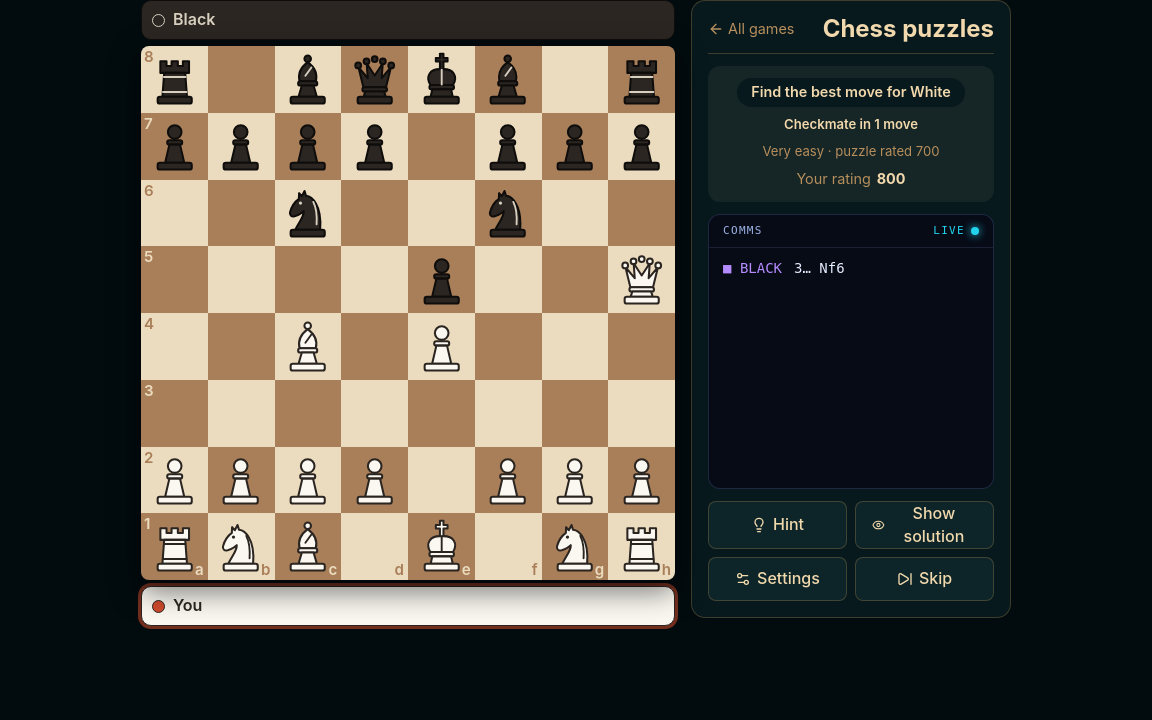
Test: chess puzzles › takes a wrong move back, counts the miss once, and hints in two steps
Expected: the message shows "Find the best move", top-left (751, 83), bottom-right (951, 100)
// Bxf7+ is check, not mate.
Click the button named "c4, White bishop". click: x=308, y=346
box: top-left (274, 313), bottom-right (341, 380)
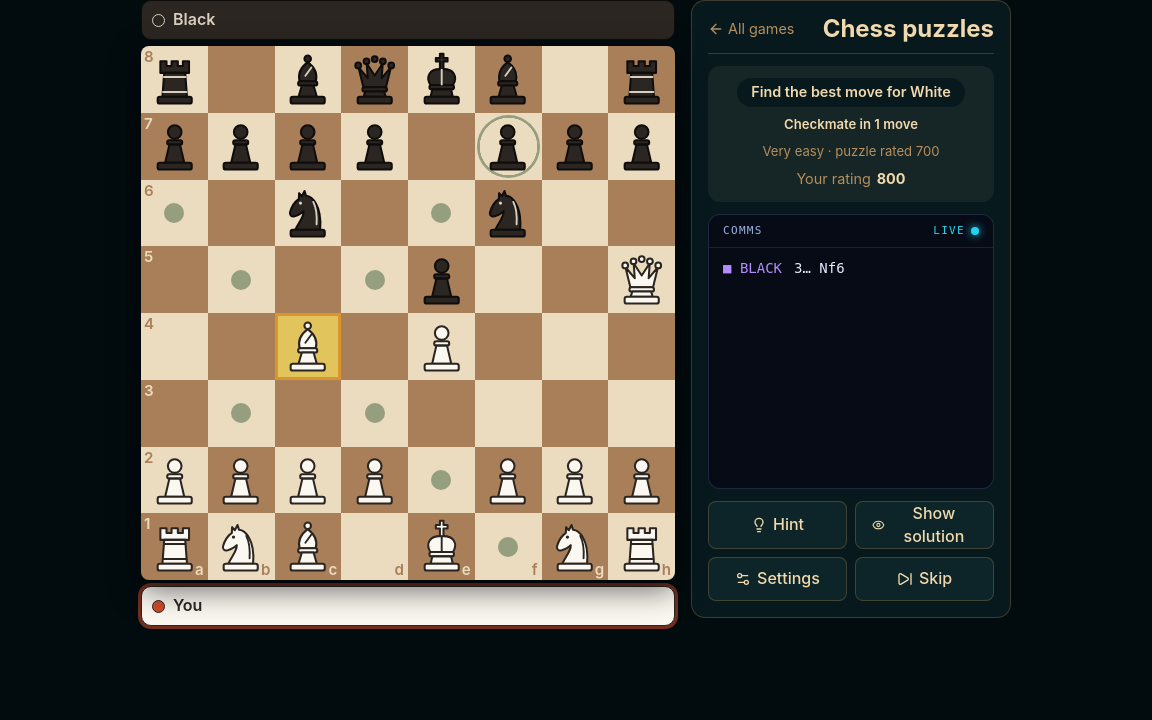
Click the button named "f7, Black pawn". click: x=508, y=146
box: top-left (475, 113), bottom-right (542, 180)
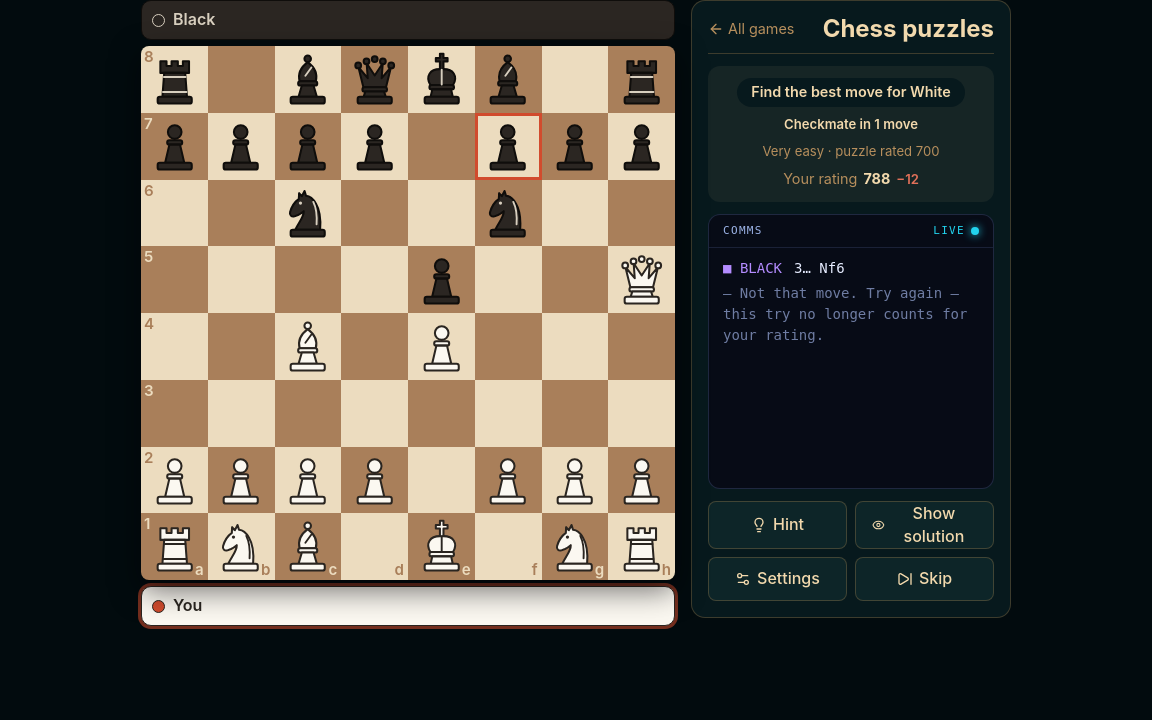
Now the text "Not that move" is shown, box top-left (723, 285), bottom-right (967, 343)
Click the button "Hint". click: x=778, y=525
box: top-left (708, 501), bottom-right (847, 549)
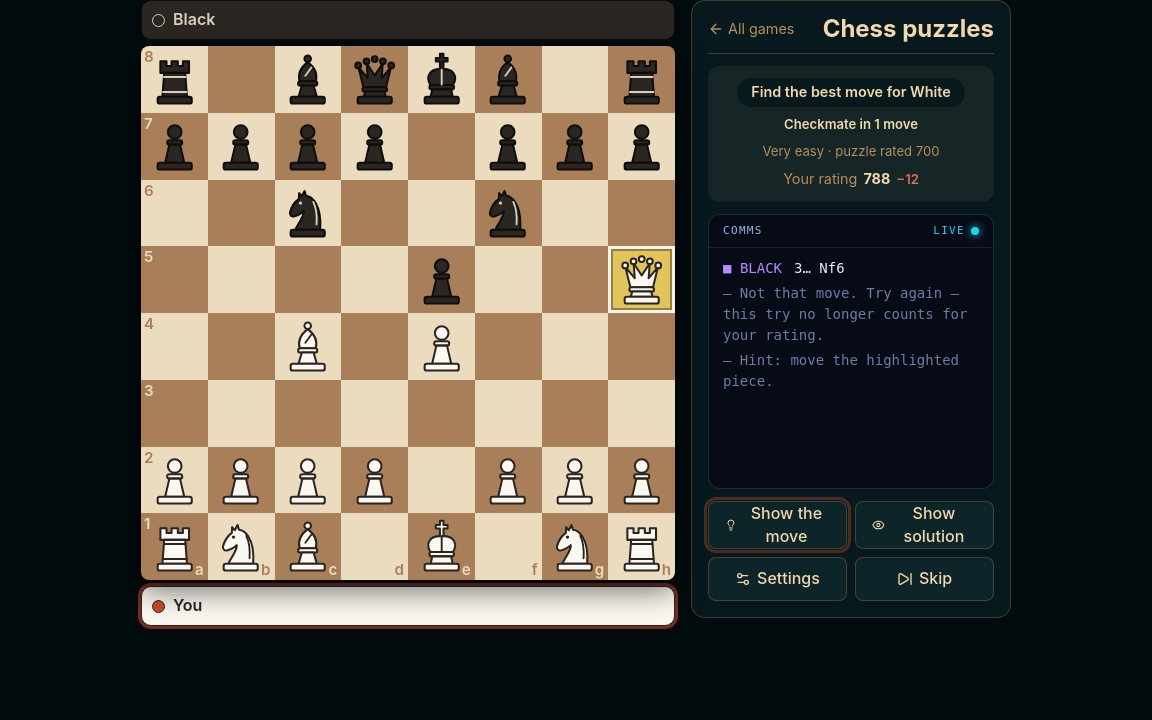
Click the button "Show the move". click: x=778, y=525
box: top-left (708, 501), bottom-right (847, 549)
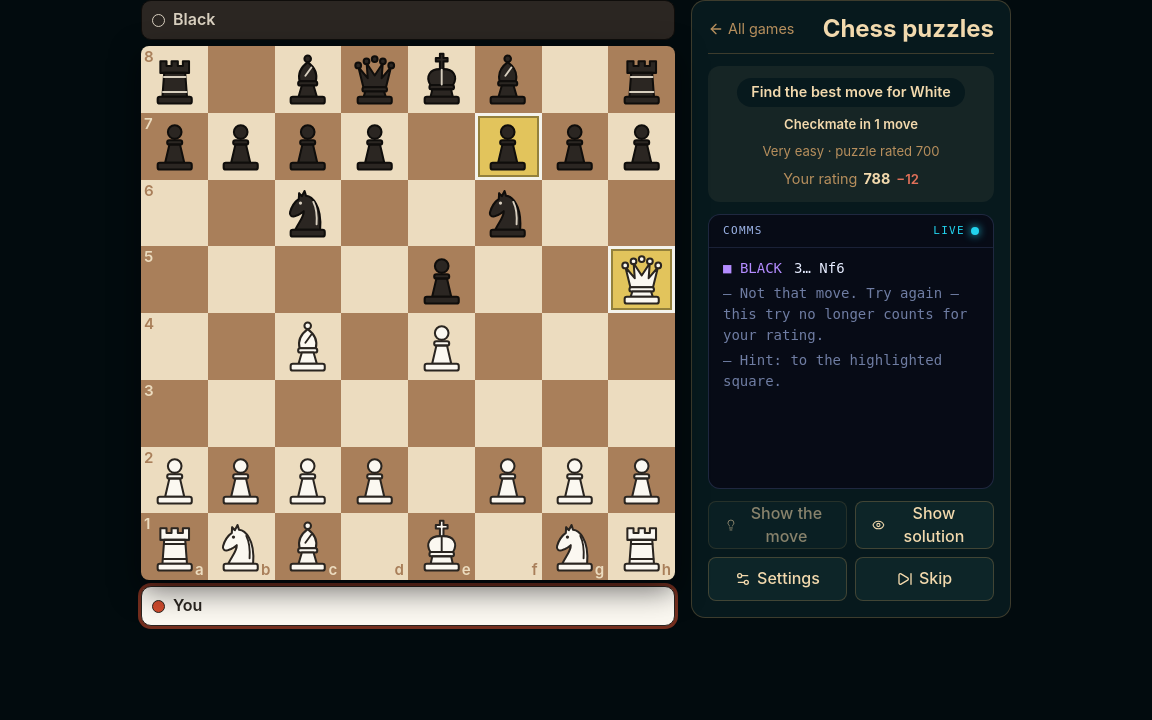
Click the button named "h5, White queen". click: x=642, y=280
box: top-left (608, 246), bottom-right (675, 313)
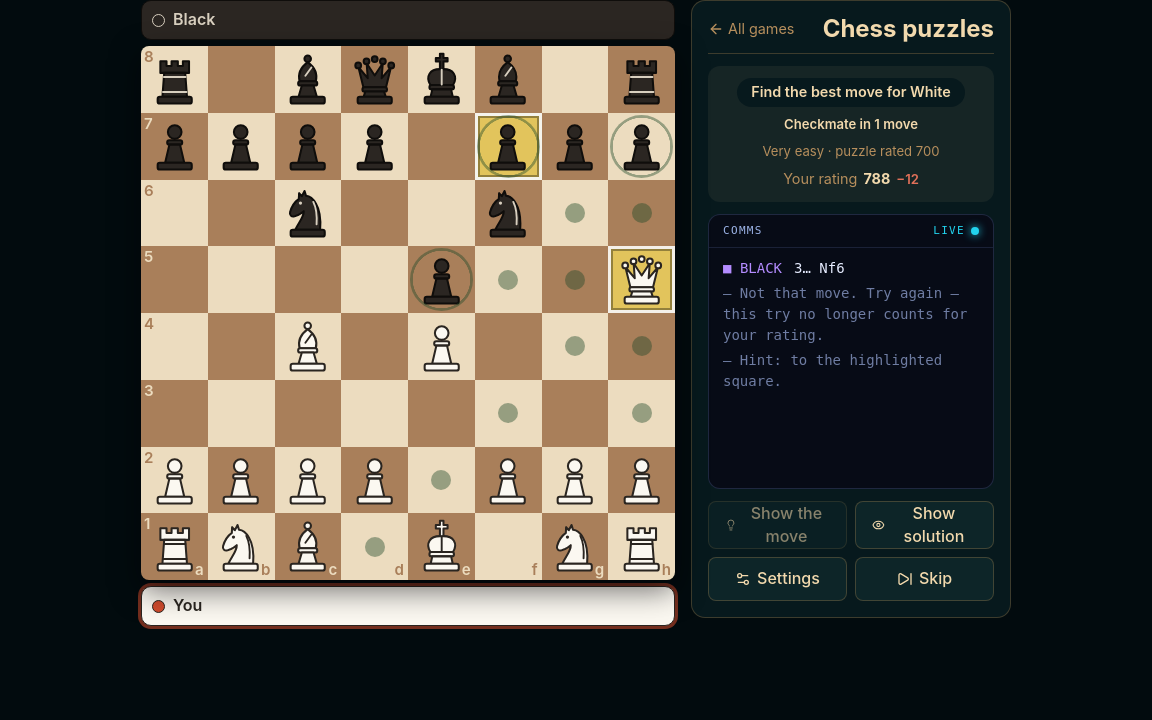
Click the button named "f7, Black pawn". click: x=508, y=146
box: top-left (475, 113), bottom-right (542, 180)
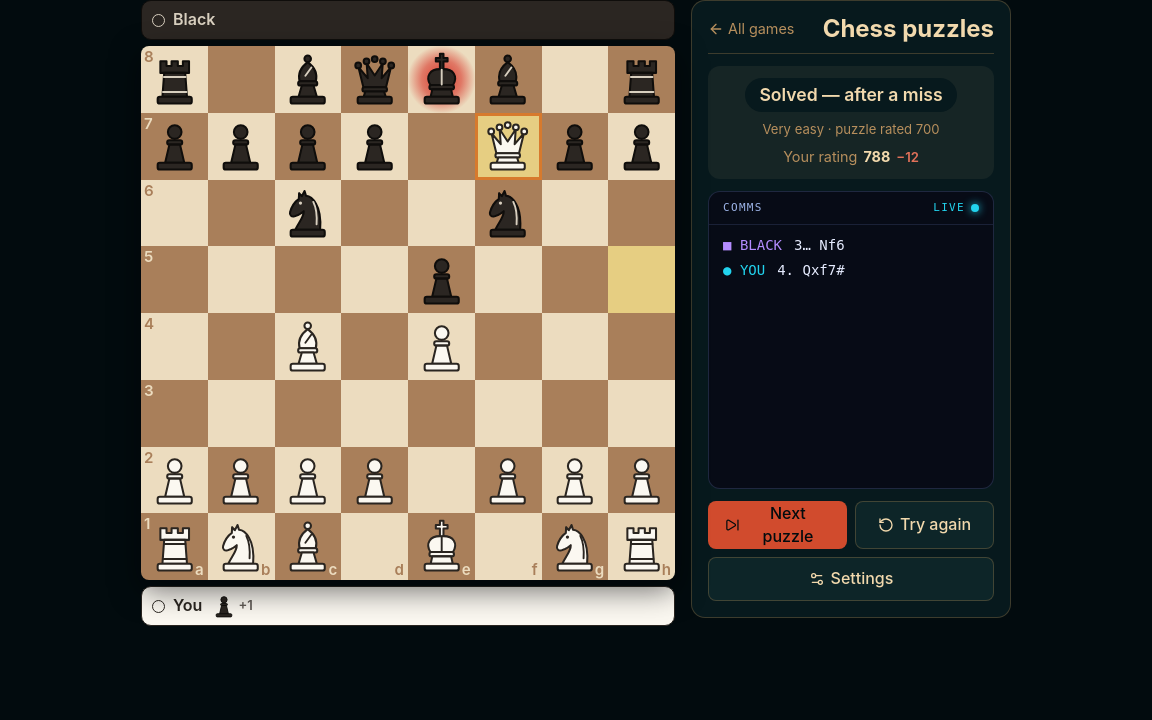
Now the message reads "Solved — after a miss", box top-left (759, 84), bottom-right (943, 105)
